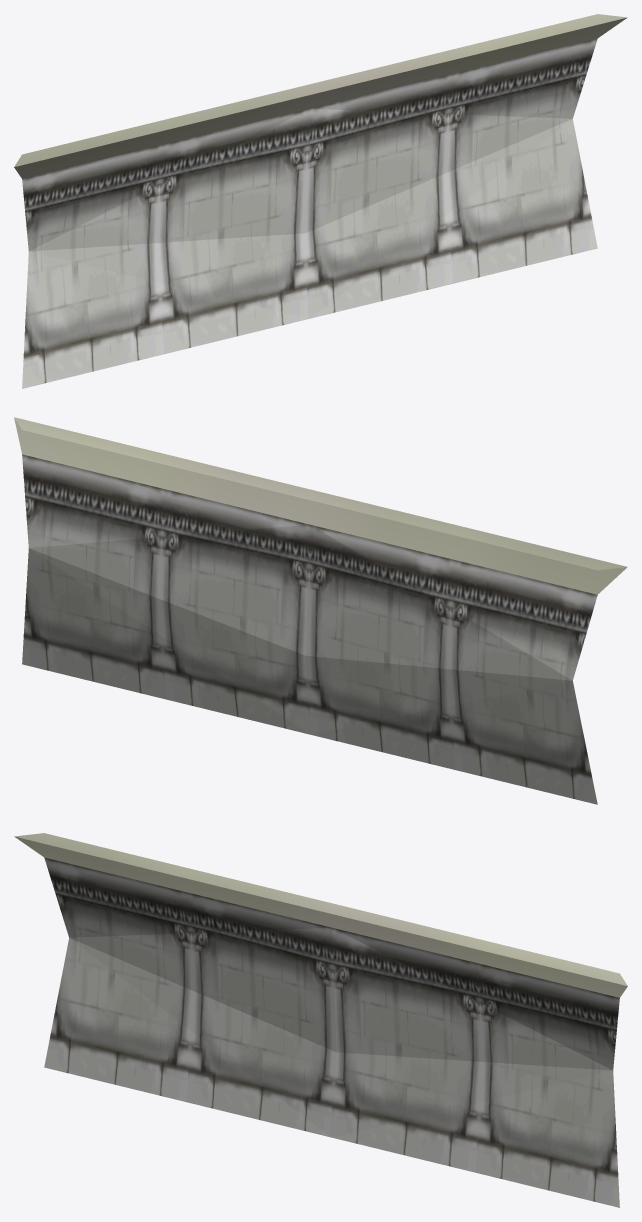
File: W_A1_xxxx [Antik]_353.glb
The picture shows the model from 3 angles, top to bottom: view 1: azimuth 30°, elevation 25°; view 2: azimuth 150°, elevation 25°; view 3: azimuth 330°, elevation 25°; orthographic projection.
Visible parts, largest first — view 1: polySurfaceShape787, polySurfaceShape1065; view 2: polySurfaceShape787, polySurfaceShape1065; view 3: polySurfaceShape787, polySurfaceShape1065.
Boxes of the visible parts, x1,y1,x2,y2 form: polySurfaceShape787: (22,38,597,388); polySurfaceShape1065: (14,14,627,178); polySurfaceShape787: (22,454,597,804); polySurfaceShape1065: (14,417,627,594); polySurfaceShape787: (44,857,619,1207); polySurfaceShape1065: (14,833,627,997).
Bounding box in the file's own units: 1.07 × 0.3891 × 0.0607.
2 materials, 2 textured.
